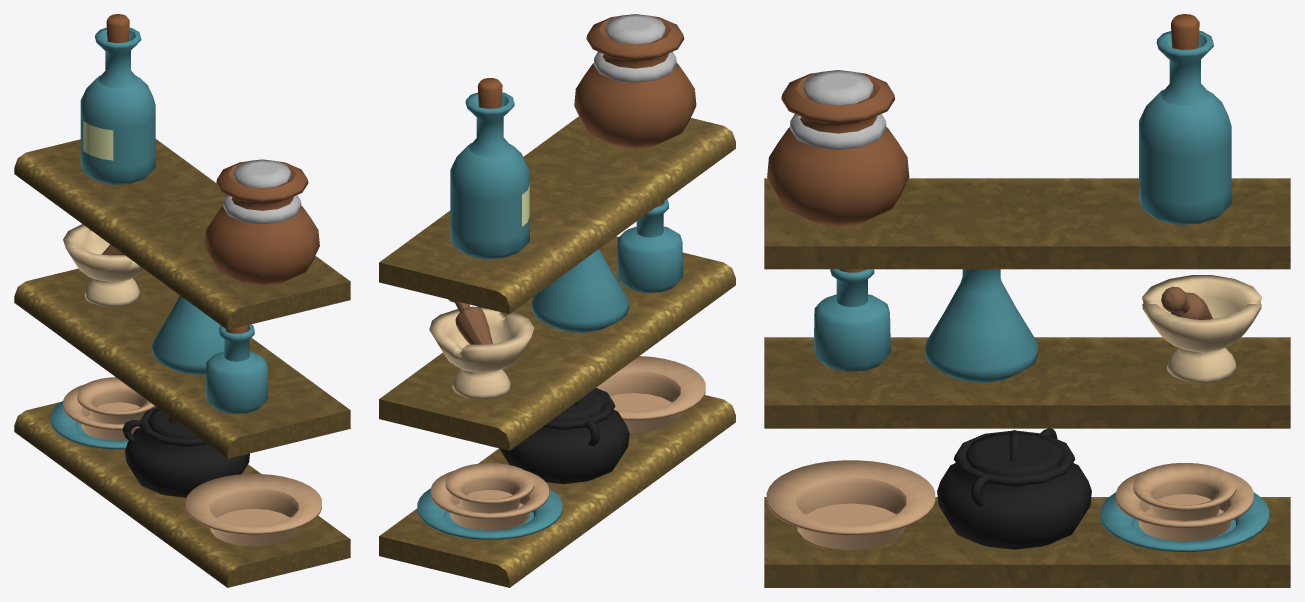
Rendered from DI_057_three_shelfs_with_items.glb.
3 renders of one model, left to right at view 1: azimuth 30°, elevation 25°; view 2: azimuth 150°, elevation 25°; view 3: azimuth 270°, elevation 25°, orthographic. The views are drawn at different scales.
Visible parts, largest first — view 1: Shelf.007, Shelf.006, Shelf.001, BrownVase, Bottle03.001, Plate.002, Kettle, Bottle05.001, mortar_bowl, Bottle04.001, Plate03.001, Plate02.001 (+1 smaller); view 2: Shelf.007, Shelf.006, Shelf.001, BrownVase, Bottle03.001, Kettle, mortar_bowl, Plate.002, Bottle04.001, Bottle05.001, Plate03.001, Plate02.001 (+2 smaller); view 3: Shelf.007, Shelf.006, Shelf.001, BrownVase, Kettle, Bottle03.001, Plate.002, Bottle04.001, mortar_bowl, Bottle05.001, Plate03.001, Plate02.001 (+2 smaller).
Part boxes in pixels (<box>): Shelf.007: <box>14,139,350,329</box>; Shelf.006: <box>14,268,350,458</box>; Shelf.001: <box>14,401,350,587</box>; BrownVase: <box>205,159,319,286</box>; Bottle03.001: <box>80,14,155,184</box>; Plate.002: <box>185,474,321,546</box>; Kettle: <box>122,407,249,497</box>; Bottle05.001: <box>205,324,268,413</box>; mortar_bowl: <box>63,224,144,306</box>; Bottle04.001: <box>152,295,224,374</box>; Plate03.001: <box>77,377,155,423</box>; Plate02.001: <box>63,384,155,440</box>; Shelf.007: <box>379,116,735,314</box>; Shelf.006: <box>379,236,735,450</box>; Shelf.001: <box>379,395,735,587</box>; BrownVase: <box>574,14,696,148</box>; Bottle03.001: <box>450,78,529,258</box>; Kettle: <box>499,388,629,484</box>; mortar_bowl: <box>429,306,534,399</box>; Plate.002: <box>596,356,705,433</box>; Bottle04.001: <box>532,249,628,332</box>; Bottle05.001: <box>617,199,683,292</box>; Plate03.001: <box>445,463,533,512</box>; Plate02.001: <box>430,470,548,530</box>; Shelf.007: <box>764,178,1290,269</box>; Shelf.006: <box>764,337,1290,428</box>; Shelf.001: <box>764,497,1290,587</box>; BrownVase: <box>767,70,909,226</box>; Kettle: <box>937,428,1091,549</box>; Bottle03.001: <box>1139,14,1231,224</box>; Plate.002: <box>766,460,935,549</box>; Bottle04.001: <box>925,269,1037,382</box>; mortar_bowl: <box>1142,275,1262,383</box>; Bottle05.001: <box>813,269,890,371</box>; Plate03.001: <box>1133,463,1236,520</box>; Plate02.001: <box>1116,471,1253,541</box>.
Bounding box in the file's own units: 0.75 × 2.51 × 2.25.
Materials: 15 (1 with a texture image).
